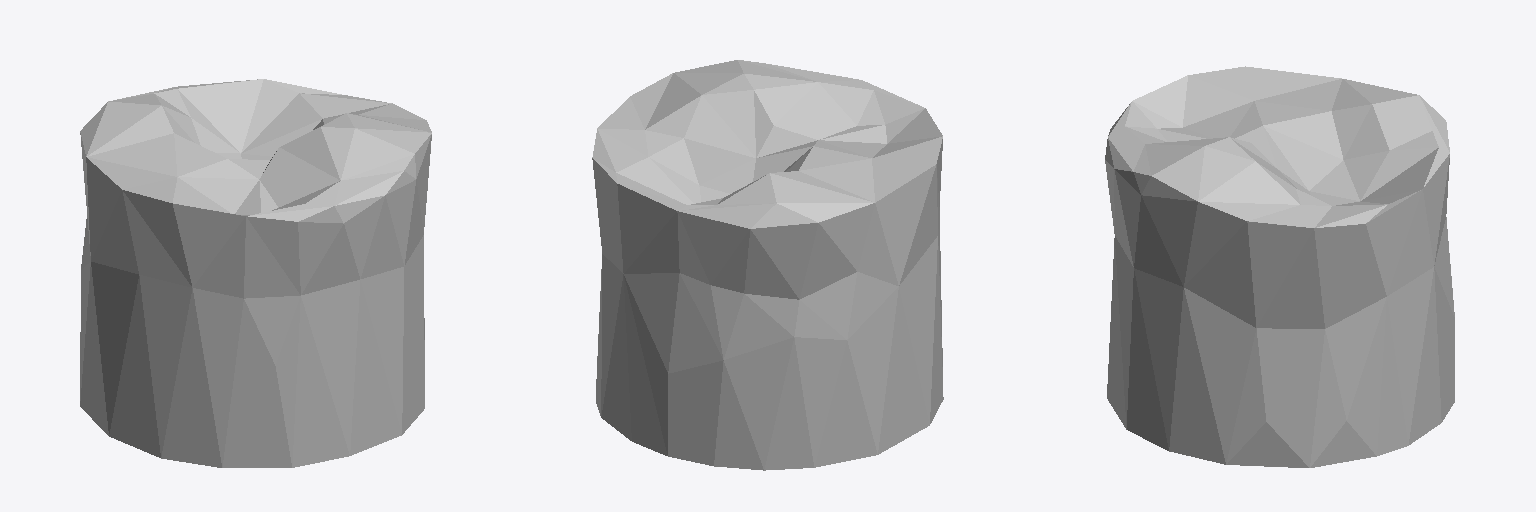
Rendered from acqua.obj.
3 views of the same model, side by side, from view 1: azimuth 30°, elevation 25°; view 2: azimuth 150°, elevation 25°; view 3: azimuth 270°, elevation 25° (orthographic).
Visible parts, largest first — view 1: obj0; view 2: obj0; view 3: obj0.
Part boxes in pixels (bbox=[...]): obj0: bbox=[80, 79, 431, 467]; obj0: bbox=[592, 60, 943, 470]; obj0: bbox=[1105, 66, 1454, 467].
Size of the model in its own units: 1.87 by 1.62 by 1.84.